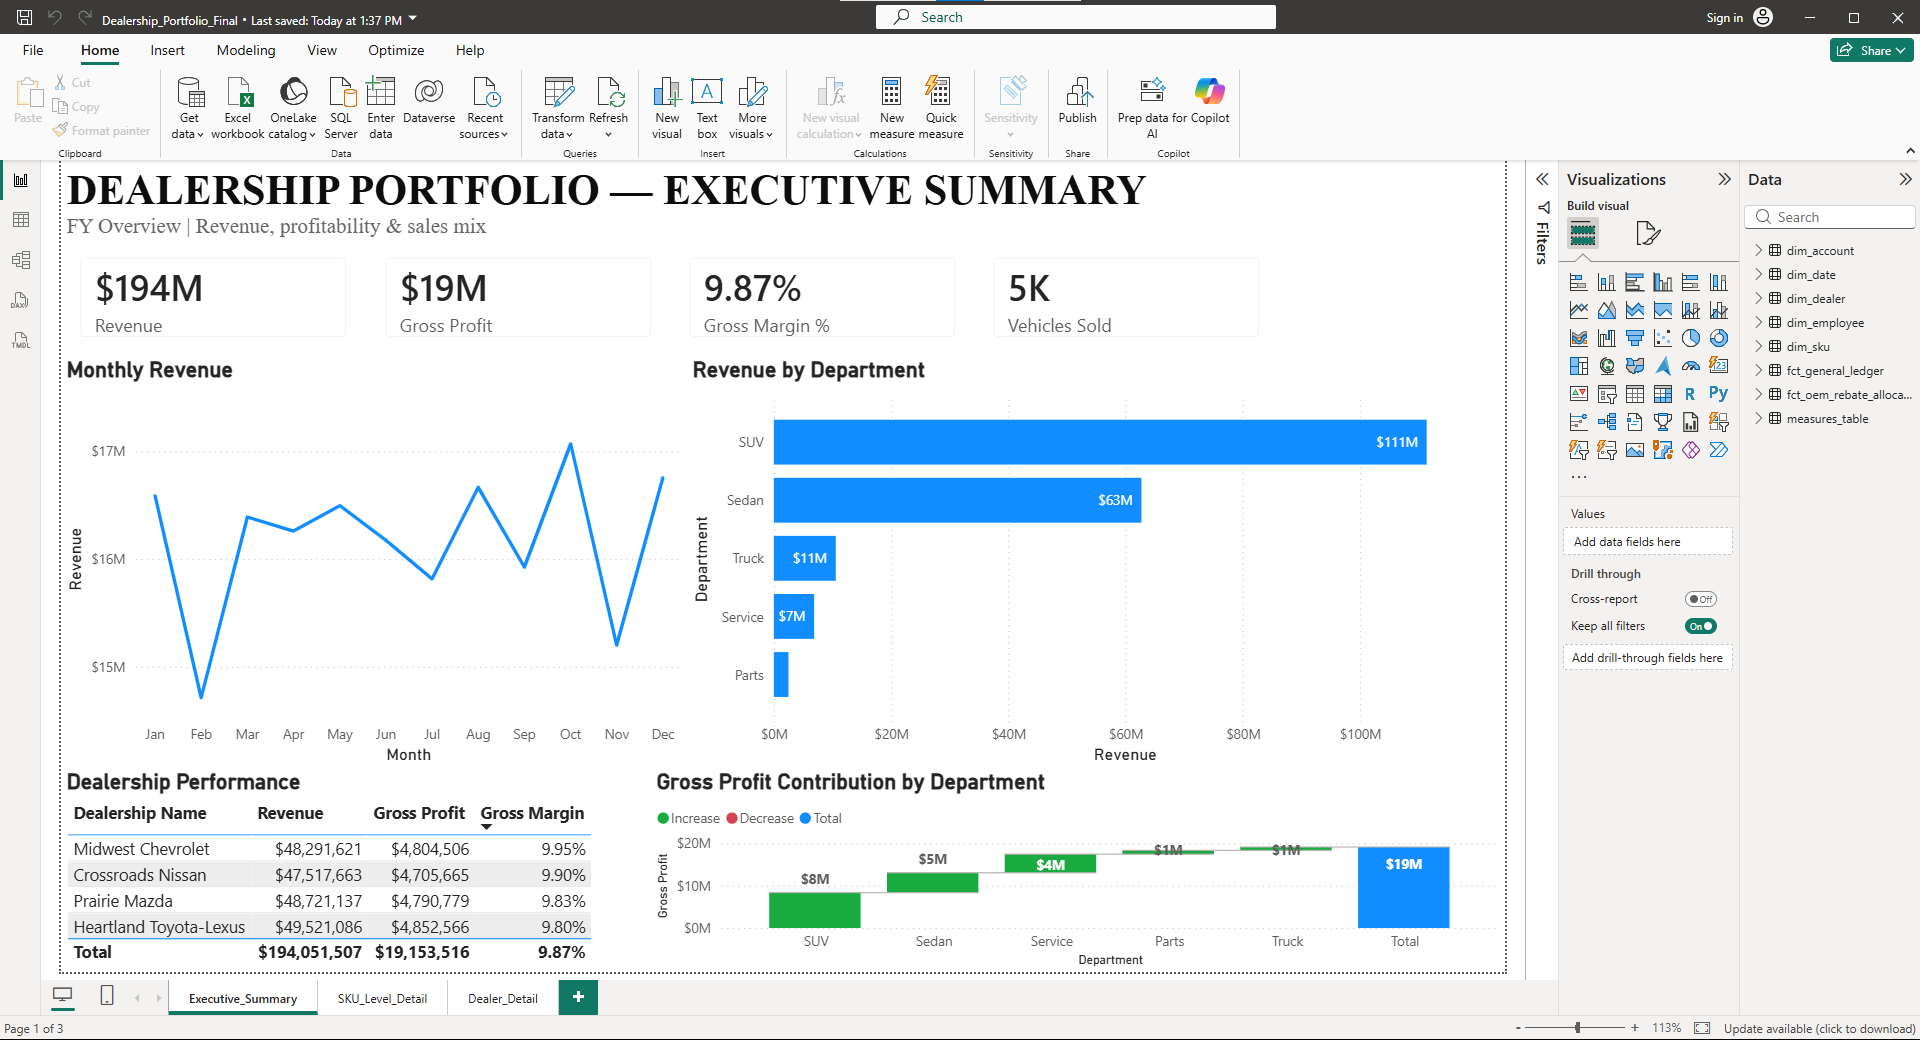

The dashboard page shown, as its layout file describes it:
{"tool":"powerbi","page":{"name":"Executive_Summary","canvas":[1280,720],"ordinal":0},"visuals":[{"type":"cardVisual","fields":{"Data":["measures_table.Rebate_Adjusted_Revenue"]},"box":[0,69.1,270,105.5],"z":0},{"type":"cardVisual","fields":{"Data":["measures_table.Gross_Profit_%"]},"box":[540,69.1,270,105.5],"z":1000},{"type":"textbox","box":[0,0,1280,74.9],"z":2000},{"type":"tableEx","title":"Dealership Performance","fields":{"Values":["dim_dealer.dealership_name","measures_table.Rebate_Adjusted_Revenue","measures_table.Rebate_Adjusted_Gross_Profit","measures_table.Gross_Profit_%"]},"box":[0,540,522.7,180],"z":3000},{"type":"cardVisual","fields":{"Data":["measures_table.Rebate_Adjusted_Gross_Profit"]},"box":[270,69.1,270,105.5],"z":4000},{"type":"lineChart","title":"Monthly Revenue","fields":{"Category":["dim_date.month_short_name"],"Y":["measures_table.Rebate_Adjusted_Revenue"]},"box":[0,174.7,555.1,365.3],"z":5000},{"type":"clusteredBarChart","title":"Revenue by Department","fields":{"Category":["dim_sku.department"],"Y":["measures_table.Rebate_Adjusted_Revenue"]},"box":[555.5,174.5,724.5,365.5],"z":6000},{"type":"waterfallChart","title":"Gross Profit Contribution by Department","fields":{"Category":["dim_sku.department"],"Y":["measures_table.Rebate_Adjusted_Gross_Profit"]},"box":[522.7,540,757.3,180],"z":7000},{"type":"cardVisual","fields":{"Data":["measures_table.EE_Sales_Count"]},"box":[810,69.1,270,105.5],"z":8000}]}

Visuals, with their boxes on the page's 1280x720 design canvas (x1, y1, x2, y2). These are canvas units, not pixel positions in the 1920x1040 screenshot, which may show the page scaled, cropped or inside an application window:
cardVisual - measures_table.Rebate_Adjusted_Revenue: (x1=0, y1=69, x2=270, y2=175)
cardVisual - measures_table.Gross_Profit_%: (x1=540, y1=69, x2=810, y2=175)
textbox: (x1=0, y1=0, x2=1280, y2=75)
"Dealership Performance" tableEx: (x1=0, y1=540, x2=523, y2=720)
cardVisual - measures_table.Rebate_Adjusted_Gross_Profit: (x1=270, y1=69, x2=540, y2=175)
"Monthly Revenue" lineChart: (x1=0, y1=175, x2=555, y2=540)
"Revenue by Department" clusteredBarChart: (x1=556, y1=174, x2=1280, y2=540)
"Gross Profit Contribution by Department" waterfallChart: (x1=523, y1=540, x2=1280, y2=720)
cardVisual - measures_table.EE_Sales_Count: (x1=810, y1=69, x2=1080, y2=175)
